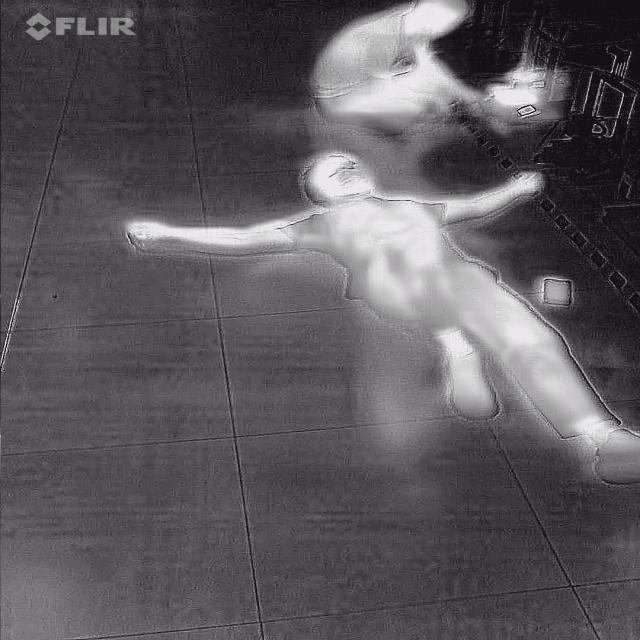Victim: (110, 145, 639, 486), (301, 0, 491, 136)
